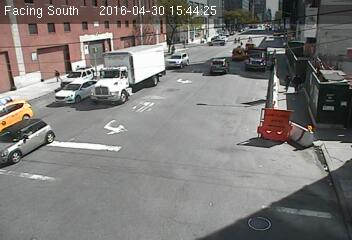neg: (63, 110, 87, 142), (130, 76, 153, 107), (273, 32, 292, 57), (320, 40, 336, 61), (299, 49, 313, 67), (249, 51, 262, 69), (218, 47, 224, 56)
pos: (277, 71, 293, 93), (291, 72, 307, 93), (51, 66, 63, 82), (169, 42, 177, 53)
